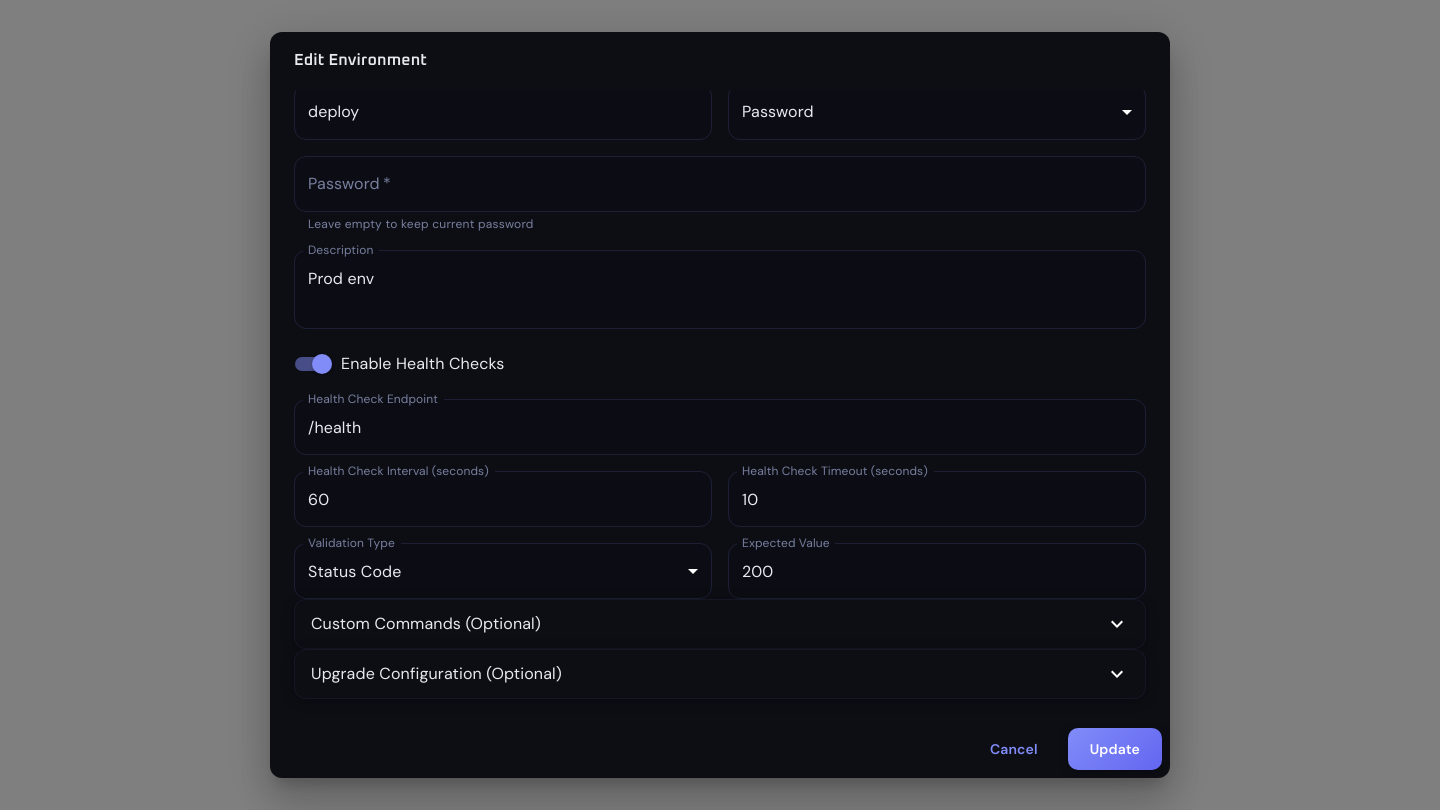
Test: EditEnvironmentDialog › switches to HTTP command type in custom commands
(page scrolled)
Check: the text "Custom Commands (Optional)" is shown, box [311, 612, 541, 636]
Click the button "Custom Commands (Optional)" at [426, 624], box [311, 612, 1129, 636]
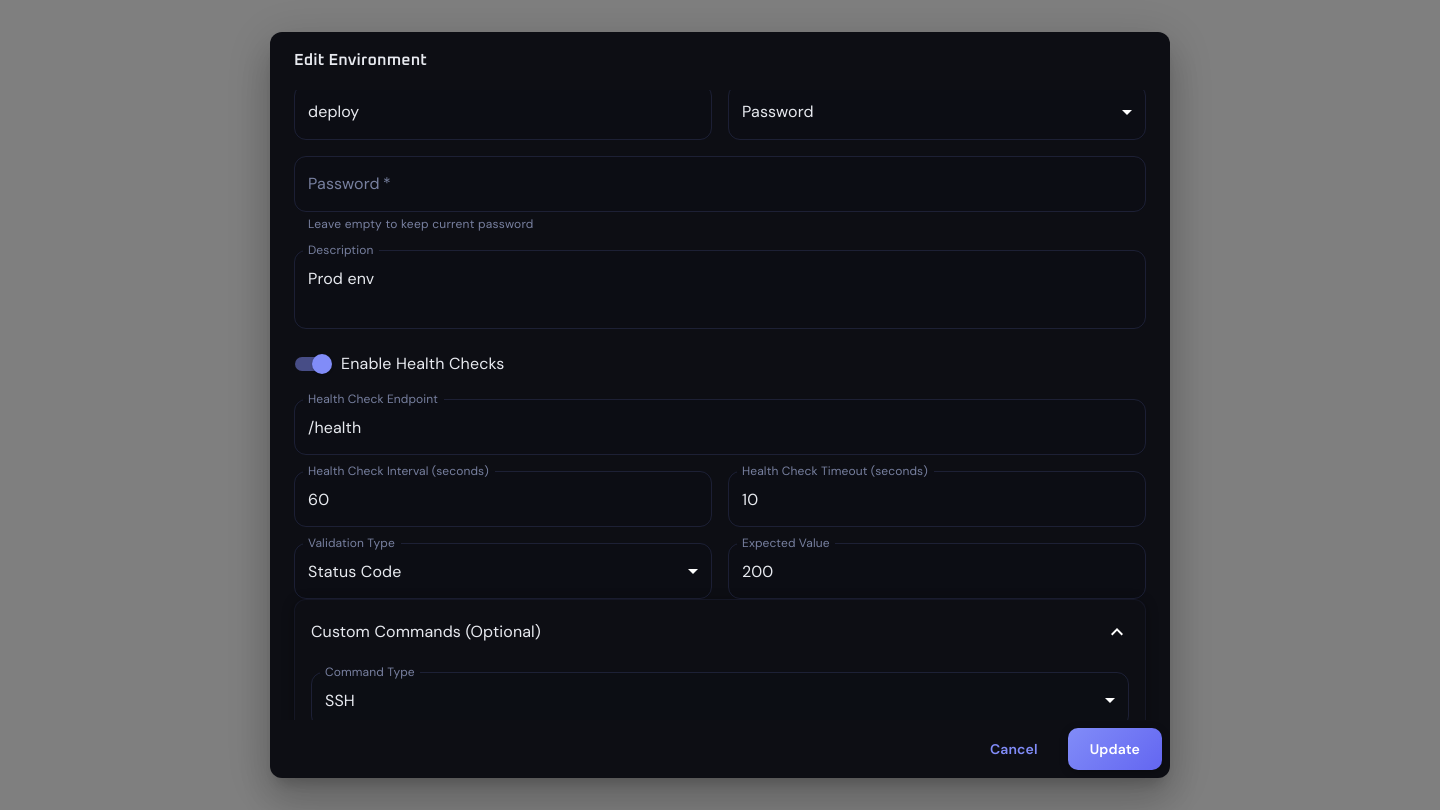
Press the mouse on the dropdown named "command type" at [340, 700], box [325, 690, 355, 711]
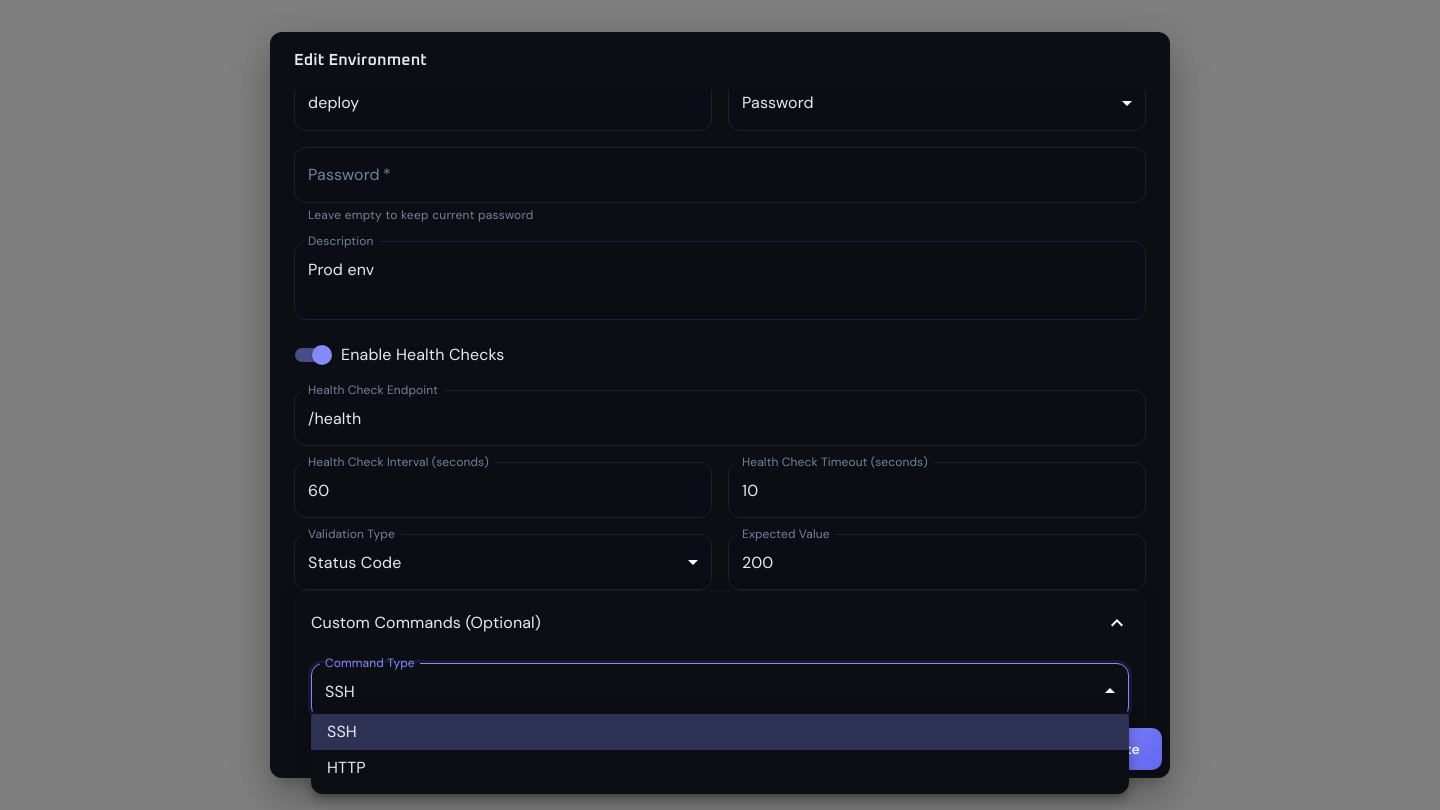
Click the option "HTTP" at [346, 768], box [327, 757, 366, 778]
(page scrolled)
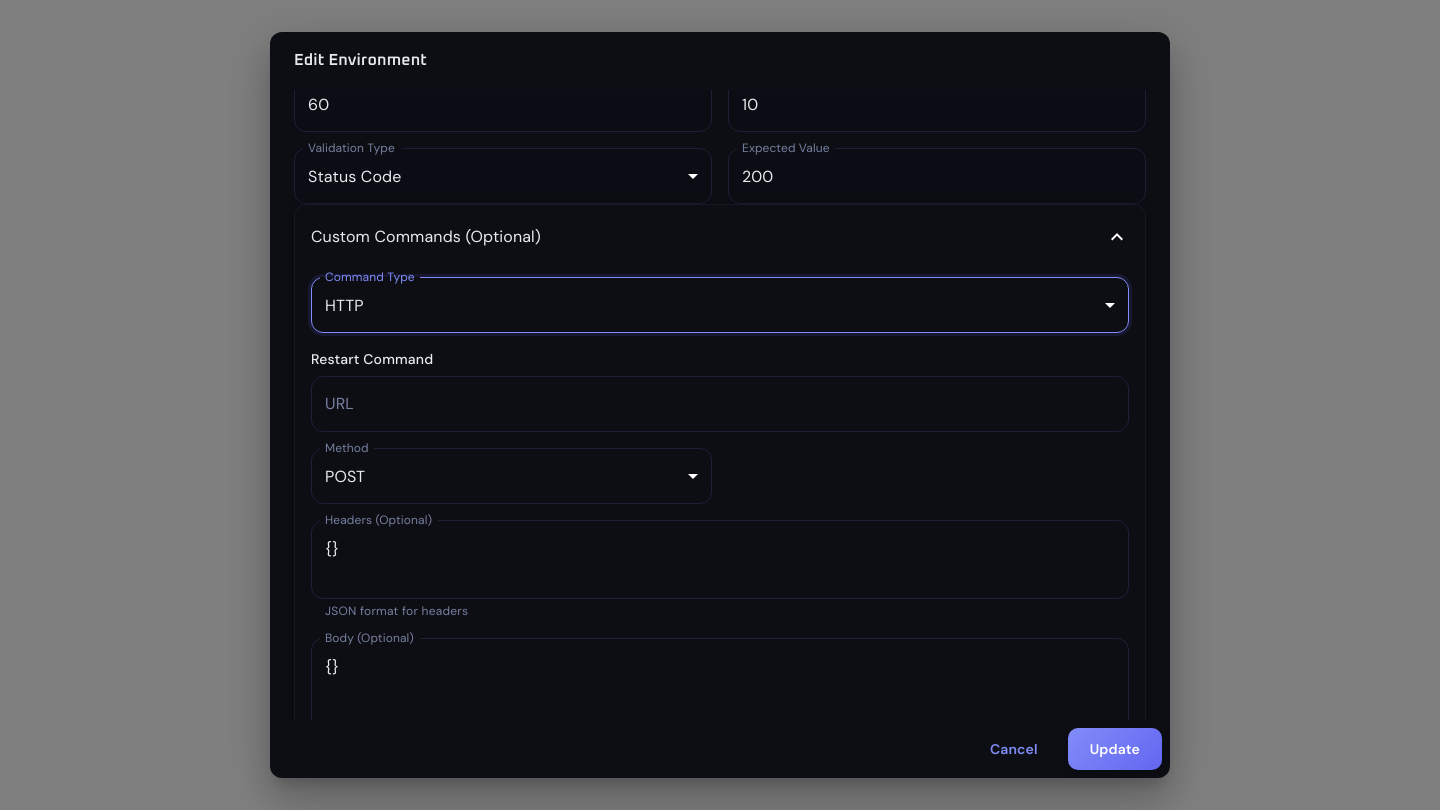
Check: the field with placeholder "http://localhost:8080/restart" is shown, box [311, 376, 1129, 432]
